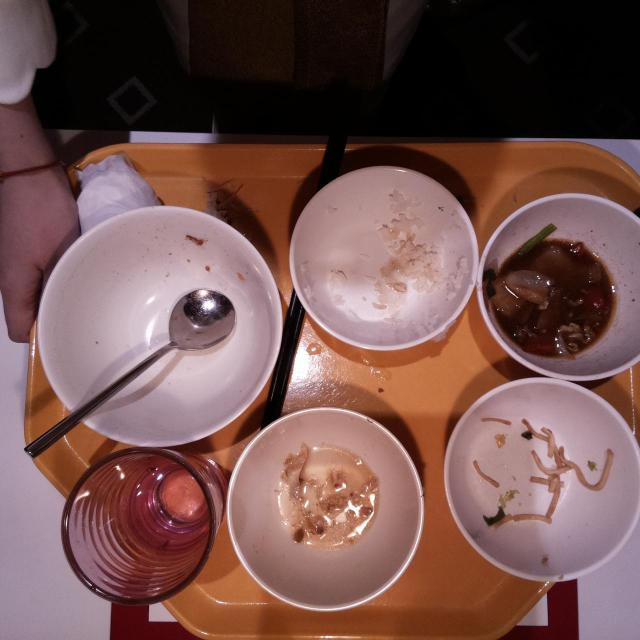Rice: (380, 214, 446, 294)
